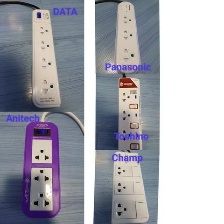three_eye_plug: (18, 119, 61, 220), (28, 5, 63, 110), (107, 149, 151, 224), (110, 1, 143, 76), (114, 74, 143, 151)
